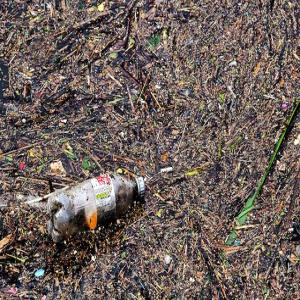Plastic-bottle: (47, 173, 146, 244)
